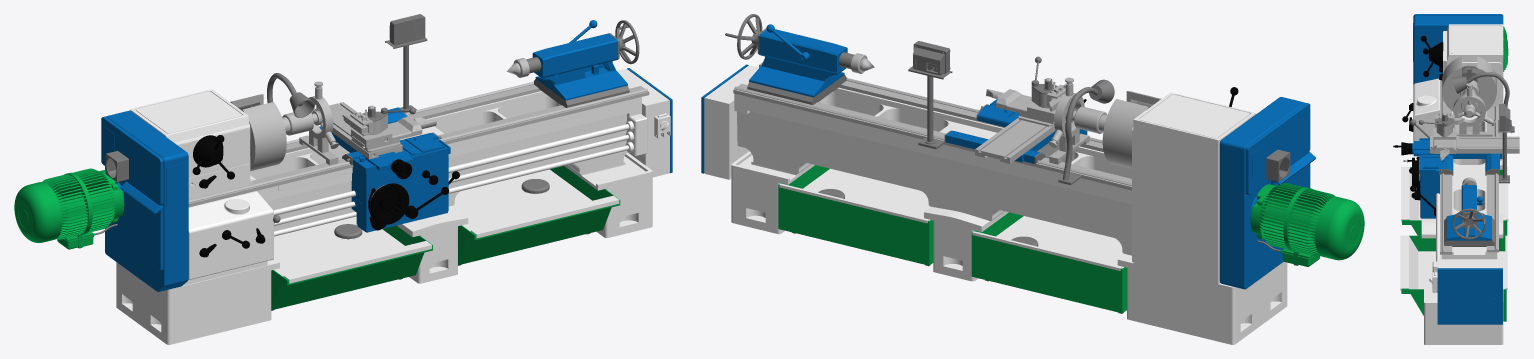
The model's file is Torno.glb.
3 views of the same model, side by side, from view 1: azimuth 30°, elevation 25°; view 2: azimuth 150°, elevation 25°; view 3: azimuth 270°, elevation 25° (orthographic). The views are drawn at different scales.
Visible parts, largest first — view 1: Body.3, Body1.53, Body5.56, Brep With Voids.20, Body1.96, Body1.88, Body4.13, Body2.97, Body2.89, Body1.9, Body.2.84, Body1.7 (+11 smaller); view 2: Body.3, Body1.53, Body5.56, Body2.89, Body2.97, Body4.13, Body1.88, Body1.96, Body1.7, Body.2.84, Body2.33, Body1.9 (+9 smaller); view 3: Body.3, Body1.53, Brep With Voids.20, Body1.96, Body.2.84, Body4.13, Body1.88, Body2.33, Body1.7, Body.2.82, Body1.9, Body2.97 (+18 smaller).
Part boxes in pixels (bbox=[...]): Body.3: bbox=[116, 68, 672, 344]; Body1.53: bbox=[101, 110, 188, 291]; Body5.56: bbox=[14, 168, 124, 249]; Brep With Voids.20: bbox=[319, 107, 450, 232]; Body1.96: bbox=[452, 169, 619, 238]; Body1.88: bbox=[272, 216, 431, 283]; Body4.13: bbox=[532, 20, 627, 100]; Body2.97: bbox=[458, 166, 620, 265]; Body2.89: bbox=[271, 225, 432, 310]; Body1.9: bbox=[188, 86, 649, 207]; Body.2.84: bbox=[230, 94, 286, 171]; Body1.7: bbox=[285, 81, 540, 153]; Body.3: bbox=[701, 64, 1287, 344]; Body1.53: bbox=[1219, 97, 1315, 289]; Body5.56: bbox=[1250, 183, 1364, 266]; Body2.89: bbox=[971, 212, 1126, 313]; Body2.97: bbox=[778, 165, 933, 265]; Body4.13: bbox=[749, 24, 847, 97]; Body1.88: bbox=[972, 216, 1124, 270]; Body1.96: bbox=[779, 168, 931, 223]; Body1.7: bbox=[733, 83, 1131, 190]; Body.2.84: bbox=[1102, 91, 1161, 168]; Body2.33: bbox=[975, 113, 1055, 163]; Body1.9: bbox=[759, 62, 1103, 152]; Body.3: bbox=[1413, 24, 1503, 344]; Body1.53: bbox=[1413, 14, 1503, 84]; Brep With Voids.20: bbox=[1412, 138, 1502, 218]; Body1.96: bbox=[1400, 235, 1507, 290]; Body.2.84: bbox=[1442, 56, 1496, 116]; Body4.13: bbox=[1446, 185, 1491, 240]; Body1.88: bbox=[1401, 166, 1508, 222]; Body2.33: bbox=[1430, 135, 1519, 153]; Body1.7: bbox=[1486, 106, 1498, 252]; Body.2.82: bbox=[1453, 83, 1495, 136]; Body1.9: bbox=[1440, 80, 1452, 254]; Body2.97: bbox=[1401, 235, 1506, 321].
Bounding box in the file's own units: 4930 × 1656 × 1157.
